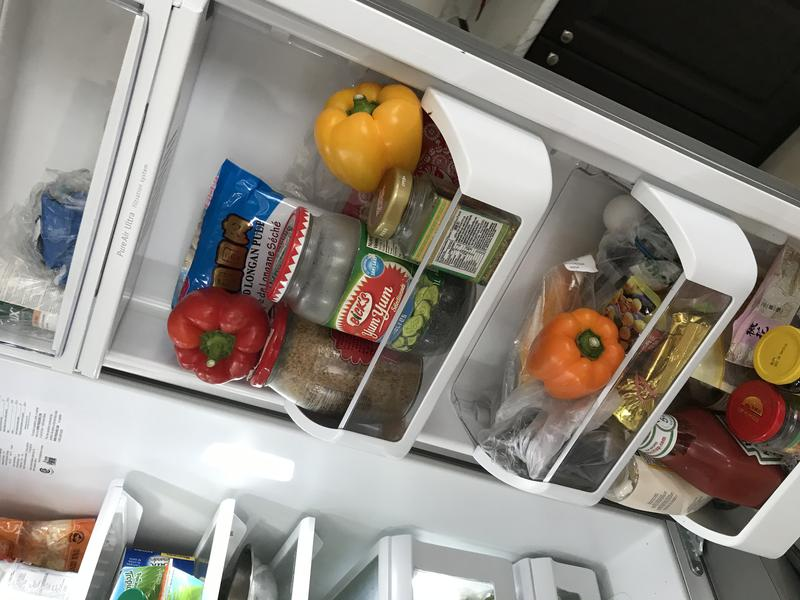orange_pepper: (522, 306, 631, 402)
red_pepper: (161, 283, 282, 391)
yellow_pepper: (311, 72, 433, 205)
